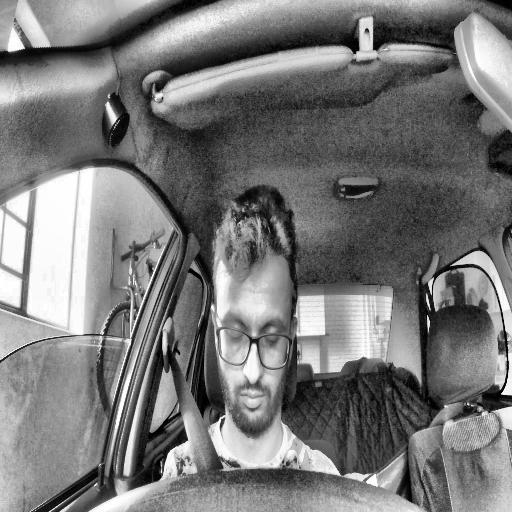drowsy: (209, 182, 299, 433)
